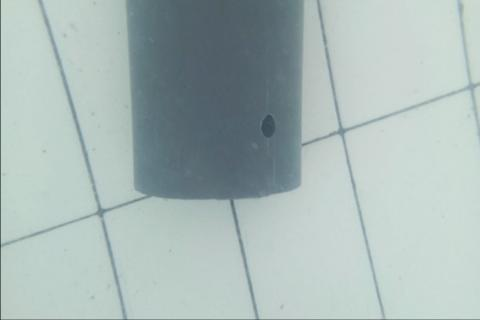kebocoran: (259, 112, 278, 141)
